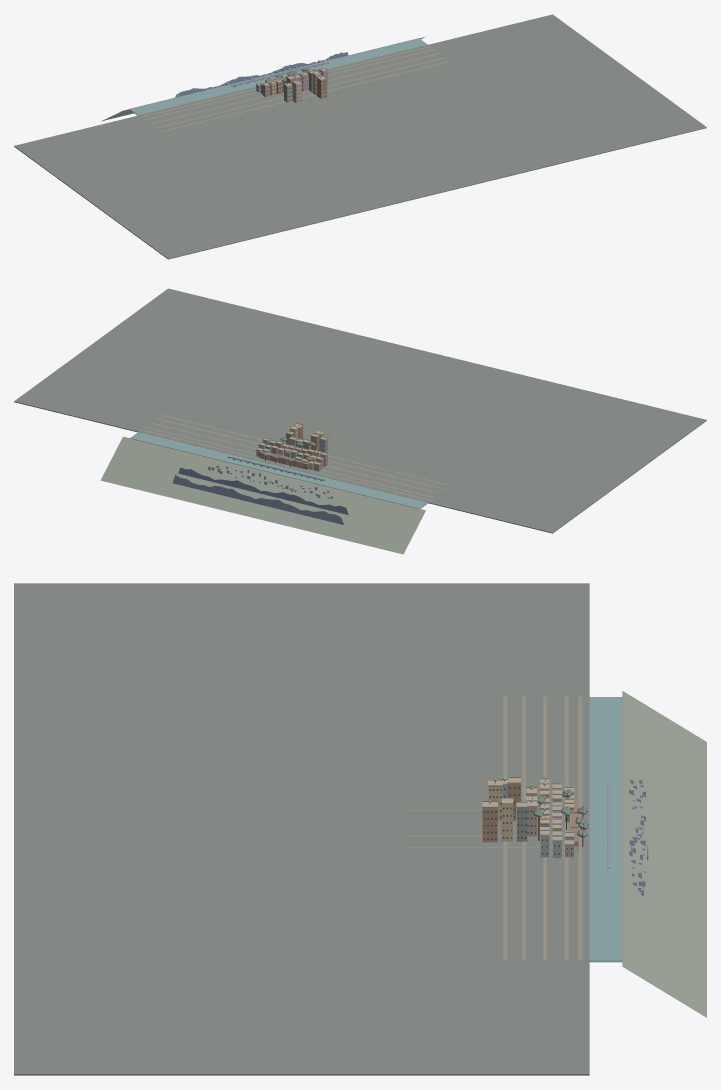
Rendered from skyline.glb.
3 views of the same model, one above another, from view 1: azimuth 30°, elevation 25°; view 2: azimuth 150°, elevation 25°; view 3: azimuth 270°, elevation 25° (orthographic). The views are drawn at different scales.
Parts seen in each view (by area): view 1: CityNearRoot__RT_ExportPalette_0.720_0.000, RiverSurface, CityFarRoot__RT_ExportPalette_0.720_0.000, CityMiddleRoot__RT_ExportPalette_0.720_0.000; view 2: CityNearRoot__RT_ExportPalette_0.720_0.000, CityFarRoot__RT_ExportPalette_0.720_0.000, RiverSurface, CityMiddleRoot__RT_ExportPalette_0.720_0.000; view 3: CityNearRoot__RT_ExportPalette_0.720_0.000, CityFarRoot__RT_ExportPalette_0.720_0.000, RiverSurface, CityMiddleRoot__RT_ExportPalette_0.720_0.000.
Part boxes in pixels (box(x1,y1,x2,y2)): CityNearRoot__RT_ExportPalette_0.720_0.000: box(14, 14, 706, 259); RiverSurface: box(130, 38, 427, 114); CityFarRoot__RT_ExportPalette_0.720_0.000: box(101, 37, 424, 121); CityMiddleRoot__RT_ExportPalette_0.720_0.000: box(130, 38, 427, 115); CityNearRoot__RT_ExportPalette_0.720_0.000: box(14, 288, 706, 533); CityFarRoot__RT_ExportPalette_0.720_0.000: box(100, 436, 425, 554); RiverSurface: box(130, 432, 427, 508); CityMiddleRoot__RT_ExportPalette_0.720_0.000: box(130, 431, 427, 508); CityNearRoot__RT_ExportPalette_0.720_0.000: box(14, 583, 589, 1075); CityFarRoot__RT_ExportPalette_0.720_0.000: box(607, 691, 706, 1017); RiverSurface: box(590, 697, 621, 960); CityMiddleRoot__RT_ExportPalette_0.720_0.000: box(527, 696, 622, 962).
Size of the model in its own units: 320 by 27.62 by 191.
